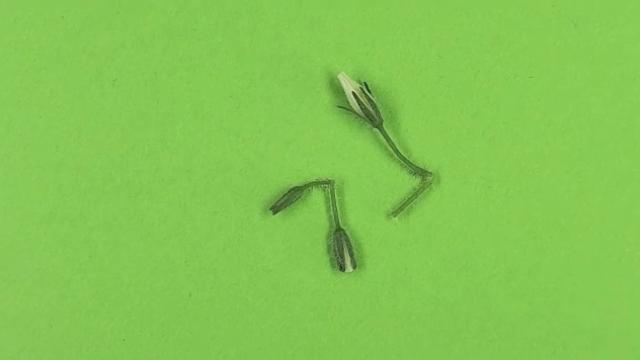Flower Bud: (335, 63, 382, 131), (265, 181, 313, 217), (330, 225, 359, 275)
